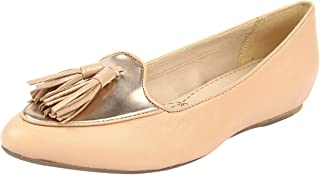shoes: (1, 1, 317, 170)
